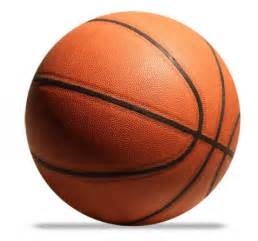basketball: (24, 10, 244, 230)
